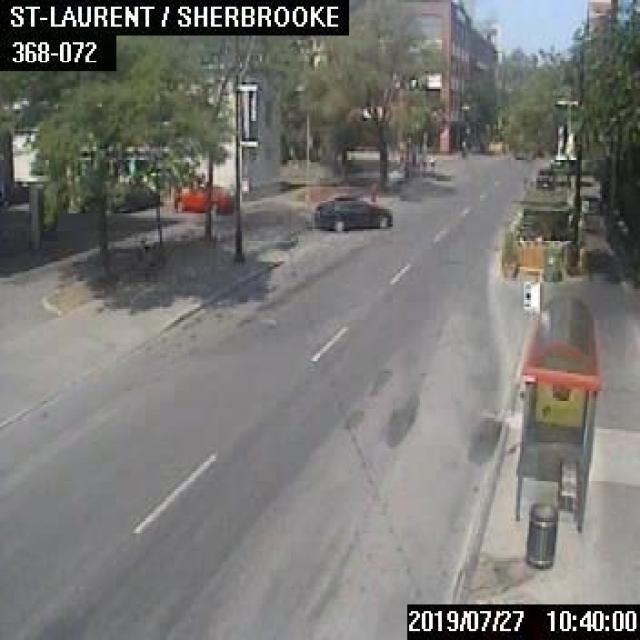vehicle: (312, 194, 391, 229), (174, 180, 234, 213), (110, 184, 158, 212), (532, 166, 552, 186)
